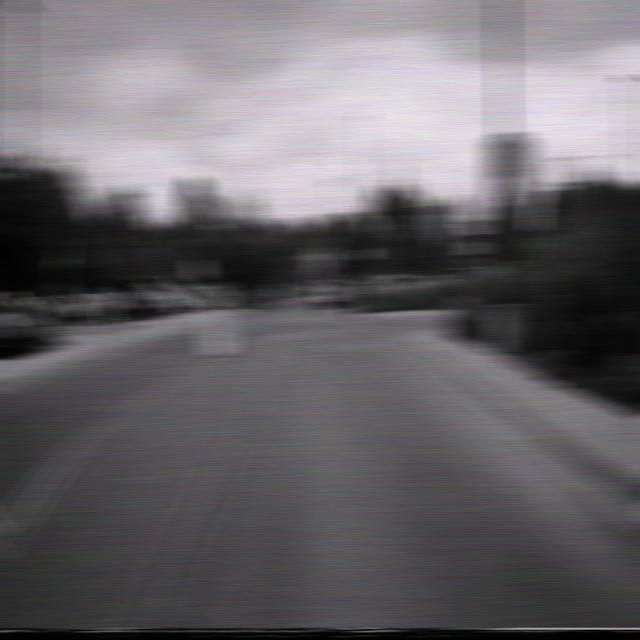stop_sign: (424, 201, 455, 240)
